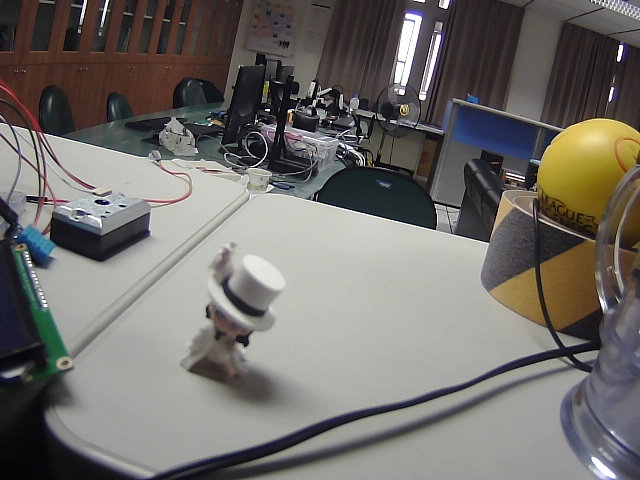lucci: (180, 240, 285, 389)
